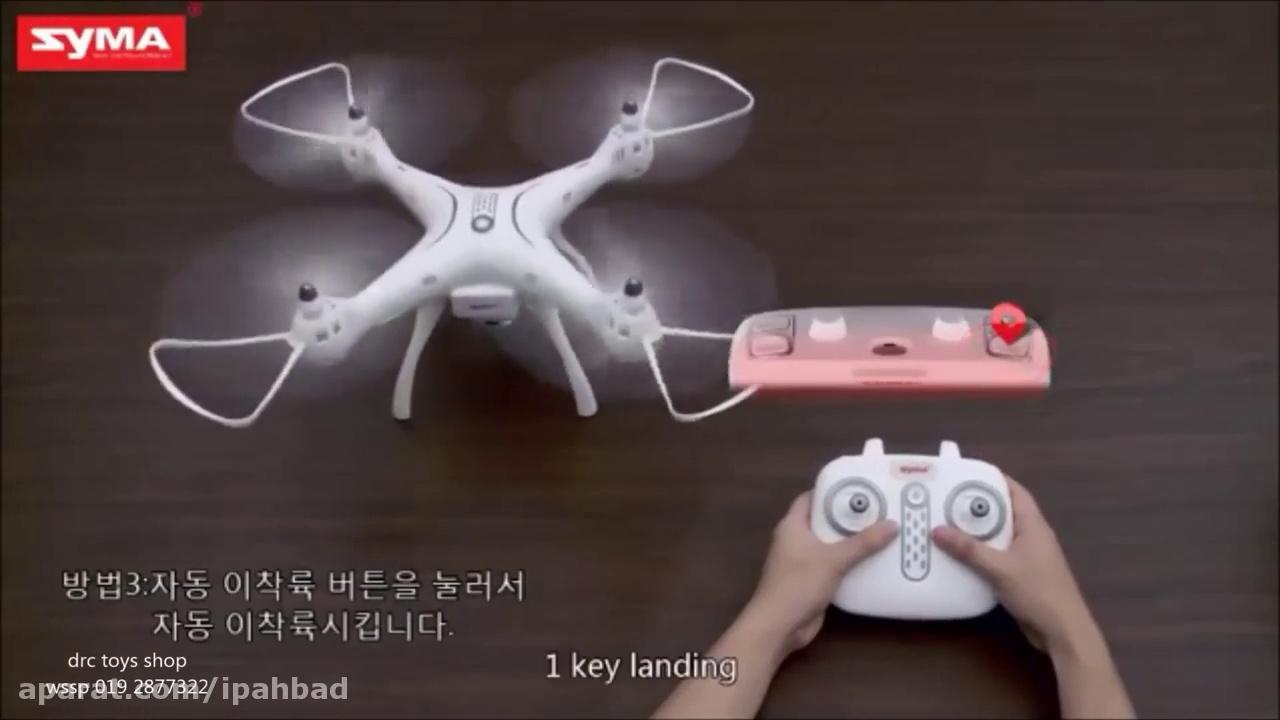drone: (144, 39, 782, 439)
